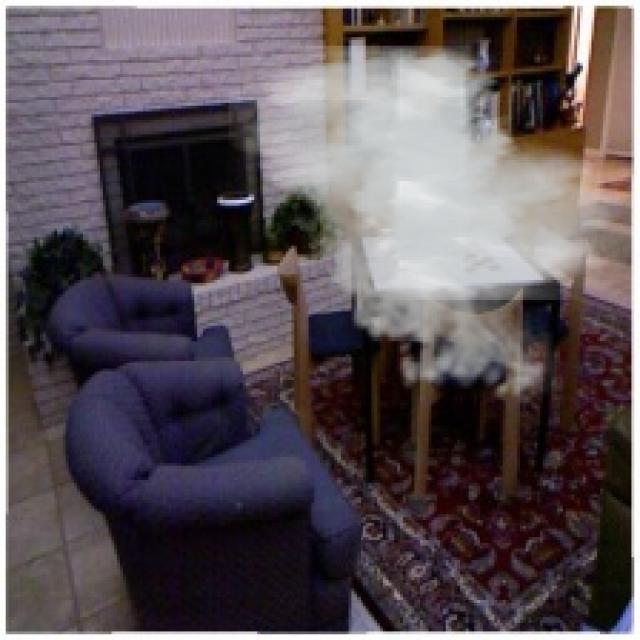smoke: (229, 46, 634, 408)
